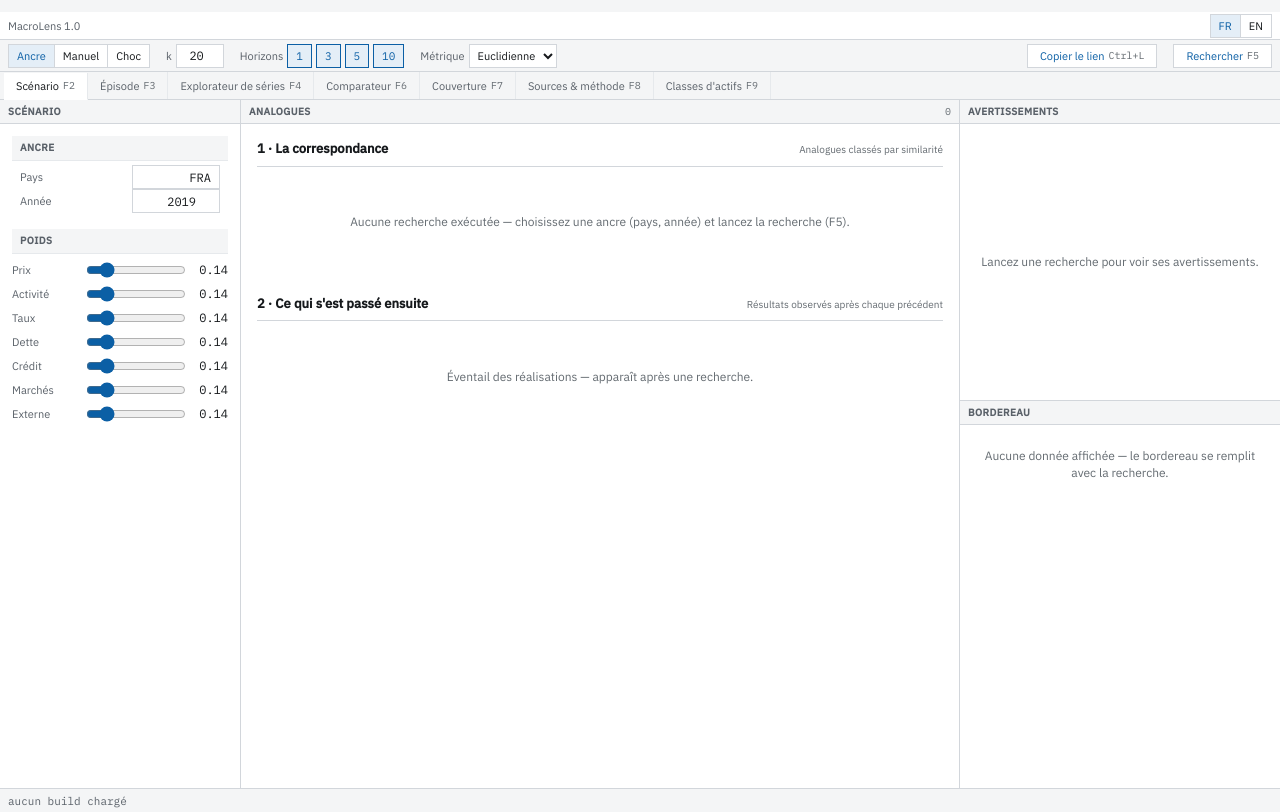
App › switches views when a tab is clicked (§11.3)
This screenshot has width=1280, height=812.
Click the tab "Comparateur F6" at (367, 86), box [314, 72, 420, 99]
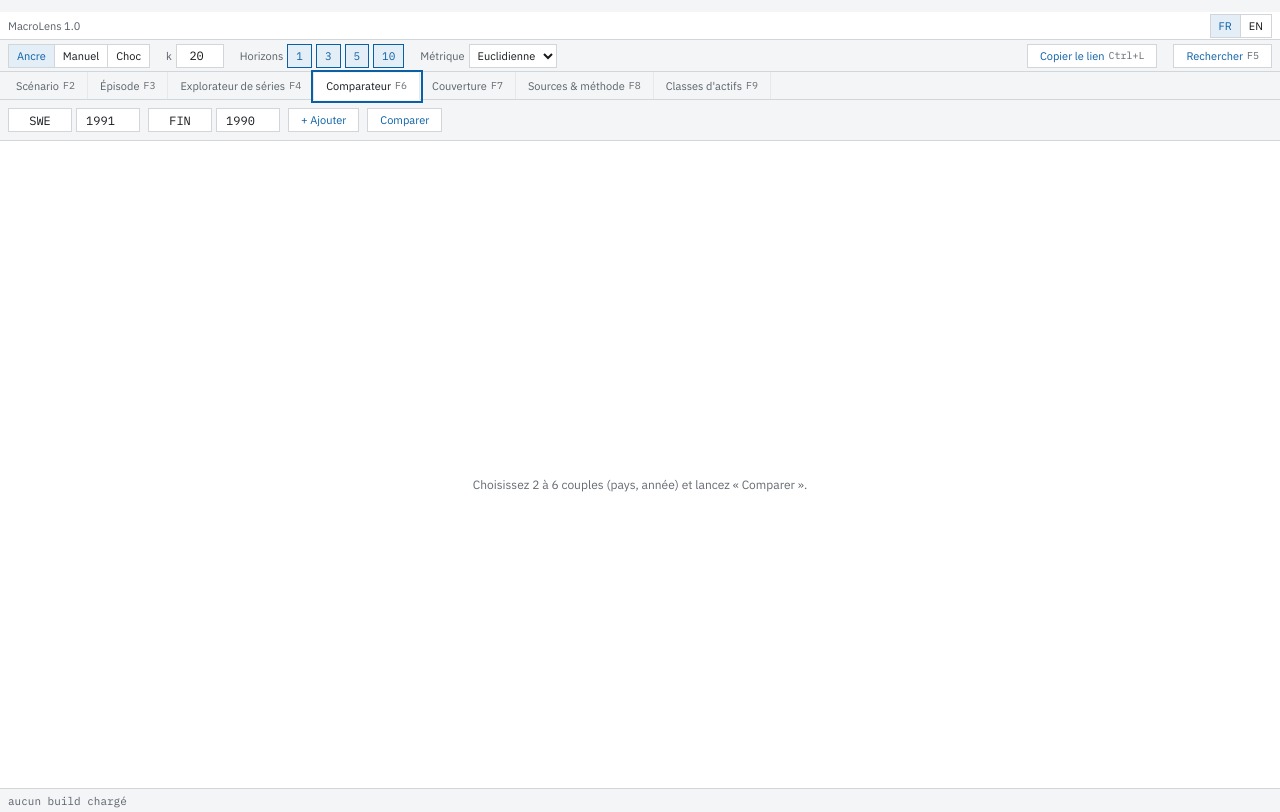
Now the button "Comparer" is shown, box [367, 108, 442, 132]
